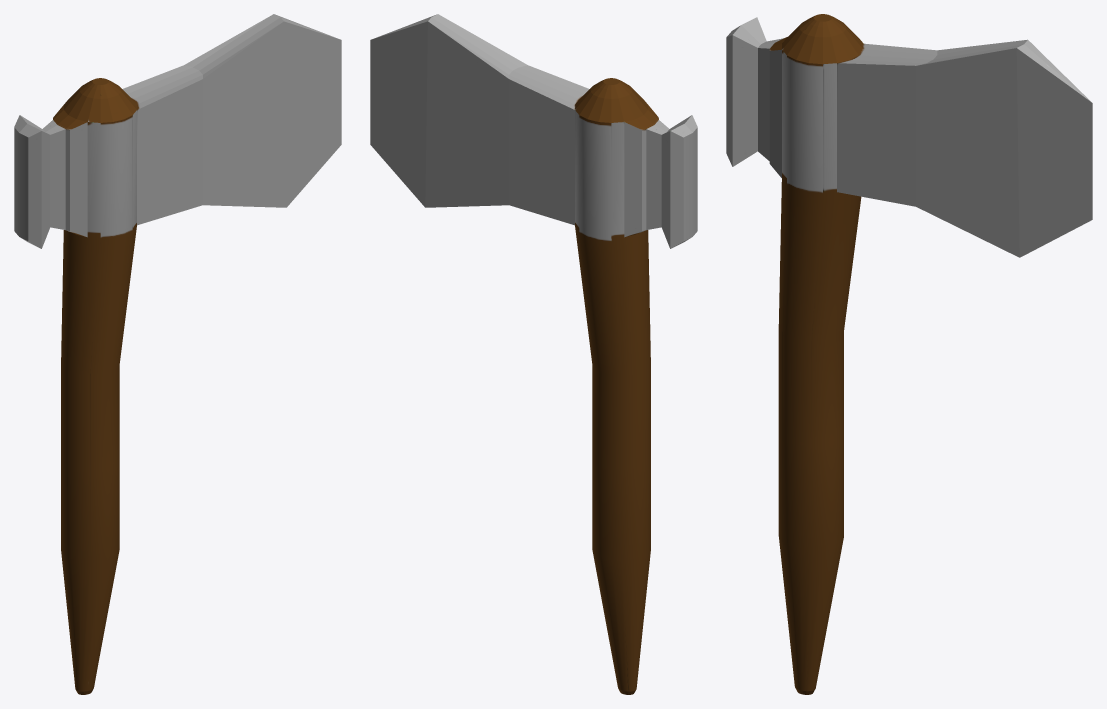
File: Axe Exported.FBX
The picture shows the model from 3 angles, left to right: view 1: azimuth 30°, elevation 25°; view 2: azimuth 150°, elevation 25°; view 3: azimuth 330°, elevation 25°; orthographic projection. The views are drawn at different scales.
Parts seen in each view (by area): view 1: Cylinder001; view 2: Cylinder001; view 3: Cylinder001.
Boxes of the visible parts, bbox=[...] form: Cylinder001: bbox=[14, 14, 341, 694]; Cylinder001: bbox=[370, 14, 697, 694]; Cylinder001: bbox=[726, 14, 1092, 694].
Bounding box in the file's own units: 49.3 × 91.59 × 9.68.
Materials: 1 (1 with a texture image).
